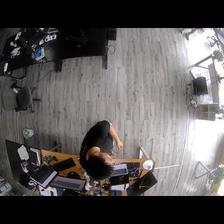normal: (81, 120, 123, 180)
